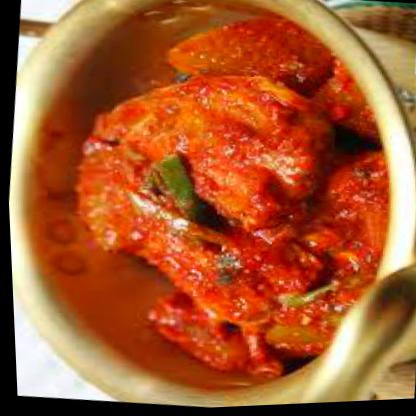stewed mackerel: (40, 0, 415, 397)
